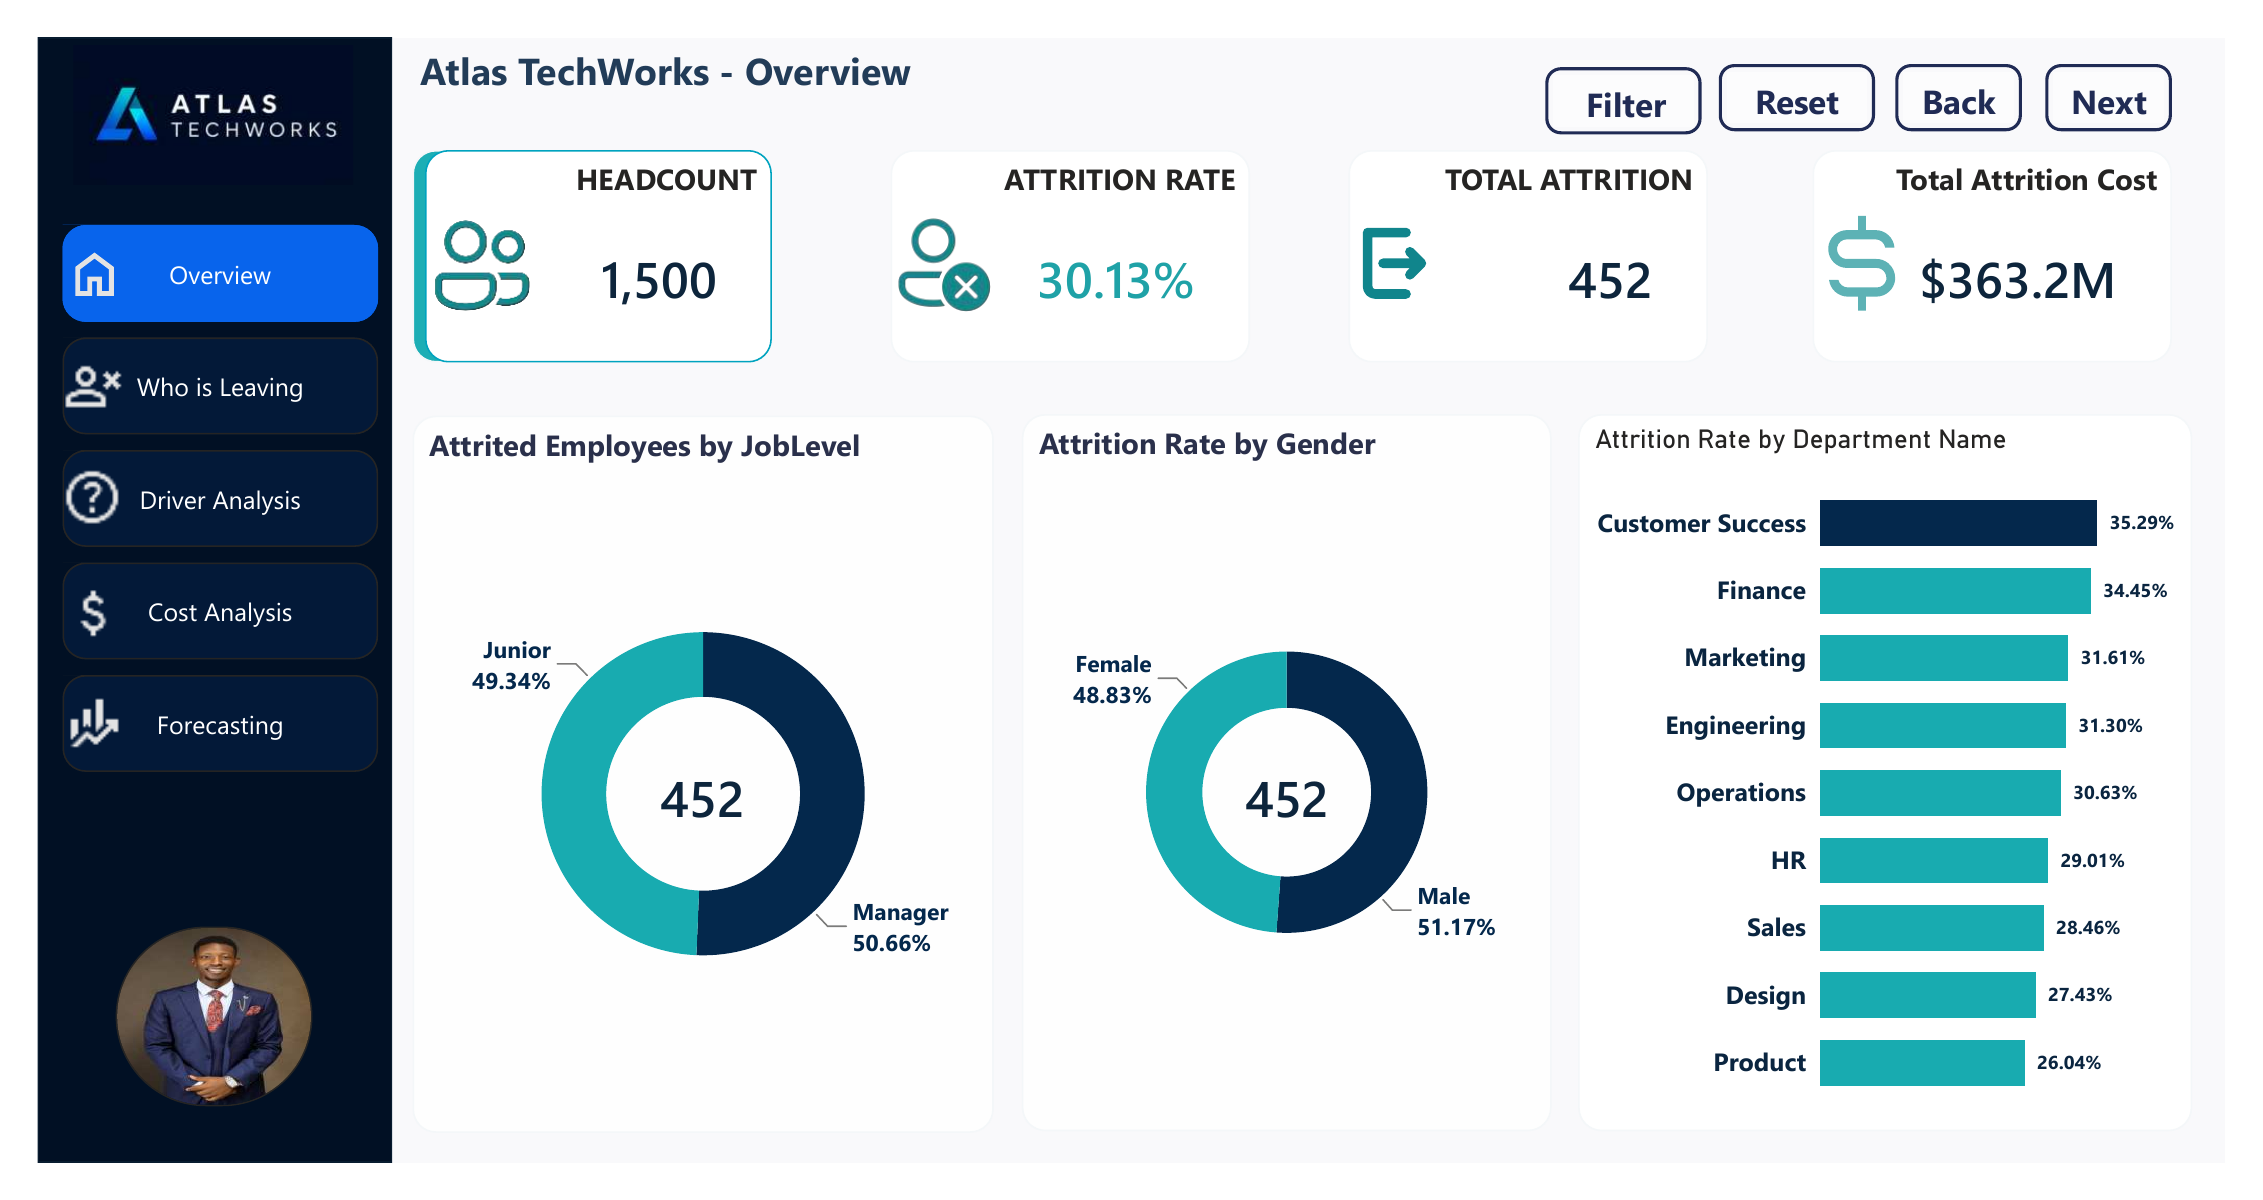

This screenshot's page, from the dashboard's own definition file:
{"tool":"powerbi","page":{"name":" Overview","canvas":[1400,720],"ordinal":20},"visuals":[{"type":"shape","box":[0,0,226.7,720],"z":0,"group":"g2"},{"type":"actionButton","title":"Next","box":[1285,17,81,43],"z":0,"group":"g3"},{"type":"group","id":"g1","title":"Group 2","box":[630,241,339,459],"z":0},{"type":"image","box":[23,3,179,93],"z":1000,"group":"g2"},{"type":"shape","box":[273,3,1053,72],"z":1000},{"type":"actionButton","title":"Back","box":[1189,17,81,43],"z":1000,"group":"g3"},{"type":"textbox","box":[240,0,358.9,50],"z":2000},{"type":"actionButton","title":"Reset","box":[1076,17,100,43],"z":2000,"group":"g3"},{"type":"pageNavigator","box":[15.6,120,202.2,351.1],"z":2000,"group":"g2"},{"type":"shape","box":[240,72.2,230,135.6],"z":3000},{"type":"cardVisual","title":"HEADCOUNT","fields":{"Data":["All Dax.HeadCount"]},"box":[247.8,72.2,222.2,135.6],"z":4000},{"type":"cardVisual","title":"ATTRITION RATE ","fields":{"Data":["All Dax.Attrition Rate"]},"box":[545.6,72.2,230,135.6],"z":5000},{"type":"cardVisual","title":"TOTAL ATTRITION","fields":{"Data":["All Dax.Attrited"]},"box":[838.9,72.2,230,135.6],"z":6000},{"type":"cardVisual","title":"Total Attrition Cost ","fields":{"Data":["All Dax.Total Annual Attrition Cost"]},"box":[1135.6,72.2,230,135.6],"z":7000},{"type":"clusteredBarChart","title":"Attrition Rate by Department Name","fields":{"Category":["DimDepartment.DepartmentName"],"Y":["All Dax.Attrition Rate"]},"box":[986,241,393,459],"z":8000},{"type":"donutChart","title":"Attrited Employees by JobLevel ","fields":{"Category":["FactEmployee.JobLevel 1"],"Y":["All Dax.Attrited Employees"]},"box":[240,242,372,459],"z":9000},{"type":"image","box":[248,104,72,79],"z":10000},{"type":"image","box":[546,109,66,70],"z":11000},{"type":"image","box":[839,109,59,70],"z":12000},{"type":"image","box":[1136,109,63,70],"z":13000},{"type":"group","id":"g2","title":"Group 1","box":[0,0,226.7,720],"z":14000},{"type":"image","box":[50,569,126,115],"z":15000},{"type":"group","id":"g3","title":"Button ","box":[1076,17,290,43],"z":16000},{"type":"image","box":[16,133,41.5,37.2],"z":17000},{"type":"image","box":[15,205,41.2,37.5],"z":18000},{"type":"image","box":[15,275,41.2,38.8],"z":19000},{"type":"image","box":[15,350,41.2,37.5],"z":20000},{"type":"image","box":[15,421.2,41.2,37.5],"z":21000},{"type":"actionButton","title":"Filter","box":[965.1,18.9,100,43],"z":22000},{"type":"donutChart","fields":{"Category":["DimGender.Gender"],"Y":["All Dax.Attrition Rate"]},"box":[630,241,339,459],"z":22000,"group":"g1"},{"type":"cardVisual","title":"TOTAL ATTRITION","fields":{"Data":["All Dax.Attrited"]},"box":[369,421,113,127],"z":24000},{"type":"cardVisual","title":"TOTAL ATTRITION","fields":{"Data":["All Dax.Attrited"]},"box":[743,421,113,127],"z":24000,"group":"g1"}]}

Visuals, with their boxes on the page's 1400x720 design canvas (x1, y1, x2, y2). These are canvas units, not pixel positions in the 2263x1200 screenshot, which may show the page scaled, cropped or inside an application window:
shape: (x1=0, y1=0, x2=227, y2=720)
"Next" actionButton: (x1=1285, y1=17, x2=1366, y2=60)
"Group 2" group: (x1=630, y1=241, x2=969, y2=700)
image: (x1=23, y1=3, x2=202, y2=96)
shape: (x1=273, y1=3, x2=1326, y2=75)
"Back" actionButton: (x1=1189, y1=17, x2=1270, y2=60)
textbox: (x1=240, y1=0, x2=599, y2=50)
"Reset" actionButton: (x1=1076, y1=17, x2=1176, y2=60)
pageNavigator: (x1=16, y1=120, x2=218, y2=471)
shape: (x1=240, y1=72, x2=470, y2=208)
"HEADCOUNT" cardVisual: (x1=248, y1=72, x2=470, y2=208)
"ATTRITION RATE " cardVisual: (x1=546, y1=72, x2=776, y2=208)
"TOTAL ATTRITION" cardVisual: (x1=839, y1=72, x2=1069, y2=208)
"Total Attrition Cost " cardVisual: (x1=1136, y1=72, x2=1366, y2=208)
"Attrition Rate by Department Name" clusteredBarChart: (x1=986, y1=241, x2=1379, y2=700)
"Attrited Employees by JobLevel " donutChart: (x1=240, y1=242, x2=612, y2=701)
image: (x1=248, y1=104, x2=320, y2=183)
image: (x1=546, y1=109, x2=612, y2=179)
image: (x1=839, y1=109, x2=898, y2=179)
image: (x1=1136, y1=109, x2=1199, y2=179)
"Group 1" group: (x1=0, y1=0, x2=227, y2=720)
image: (x1=50, y1=569, x2=176, y2=684)
"Button " group: (x1=1076, y1=17, x2=1366, y2=60)
image: (x1=16, y1=133, x2=58, y2=170)
image: (x1=15, y1=205, x2=56, y2=242)
image: (x1=15, y1=275, x2=56, y2=314)
image: (x1=15, y1=350, x2=56, y2=388)
image: (x1=15, y1=421, x2=56, y2=459)
"Filter" actionButton: (x1=965, y1=19, x2=1065, y2=62)
donutChart - DimGender.Gender x All Dax.Attrition Rate: (x1=630, y1=241, x2=969, y2=700)
"TOTAL ATTRITION" cardVisual: (x1=369, y1=421, x2=482, y2=548)
"TOTAL ATTRITION" cardVisual: (x1=743, y1=421, x2=856, y2=548)
